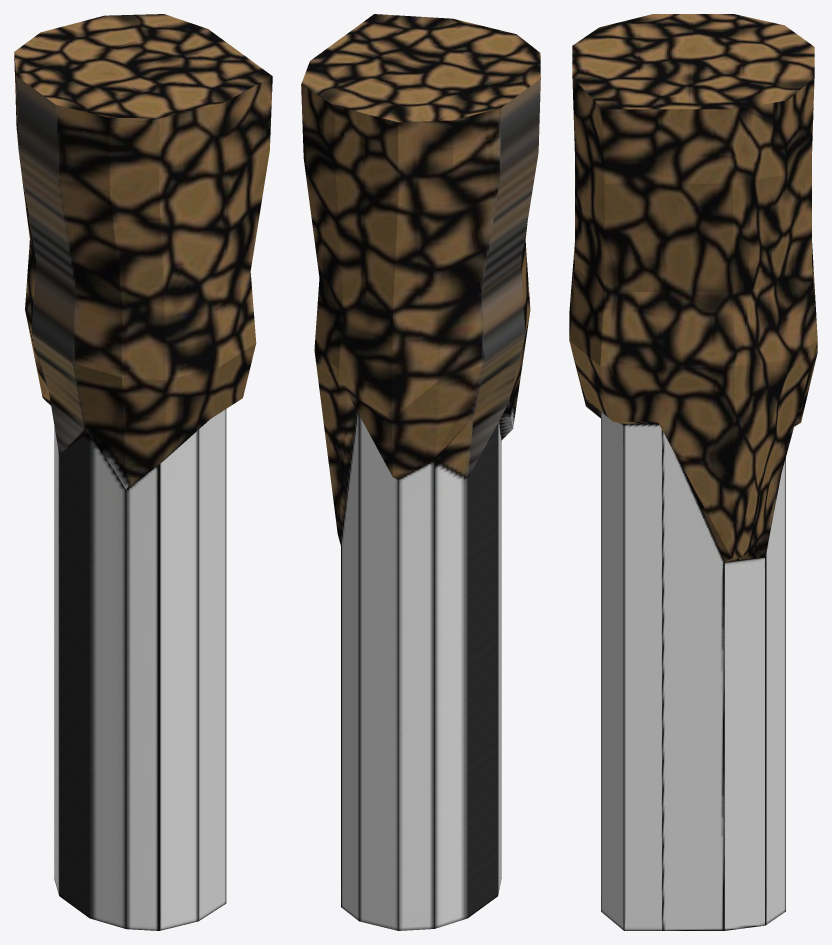
The model's file is EspacioPirateriaColumnaInteriorBajoNI.gltf.
3 views of the same model, side by side, from view 1: azimuth 30°, elevation 25°; view 2: azimuth 150°, elevation 25°; view 3: azimuth 270°, elevation 25° (orthographic).
Visible parts, largest first — view 1: Objeto Poligonal.4; view 2: Objeto Poligonal.4; view 3: Objeto Poligonal.4.
Part boxes in pixels (box(x1,y1,x2,y2)): Objeto Poligonal.4: box(14, 14, 272, 930); Objeto Poligonal.4: box(301, 14, 540, 930); Objeto Poligonal.4: box(569, 14, 817, 930).
Size of the model in its own units: 0.4864 by 2 by 0.5366.
1 material, 1 textured.
